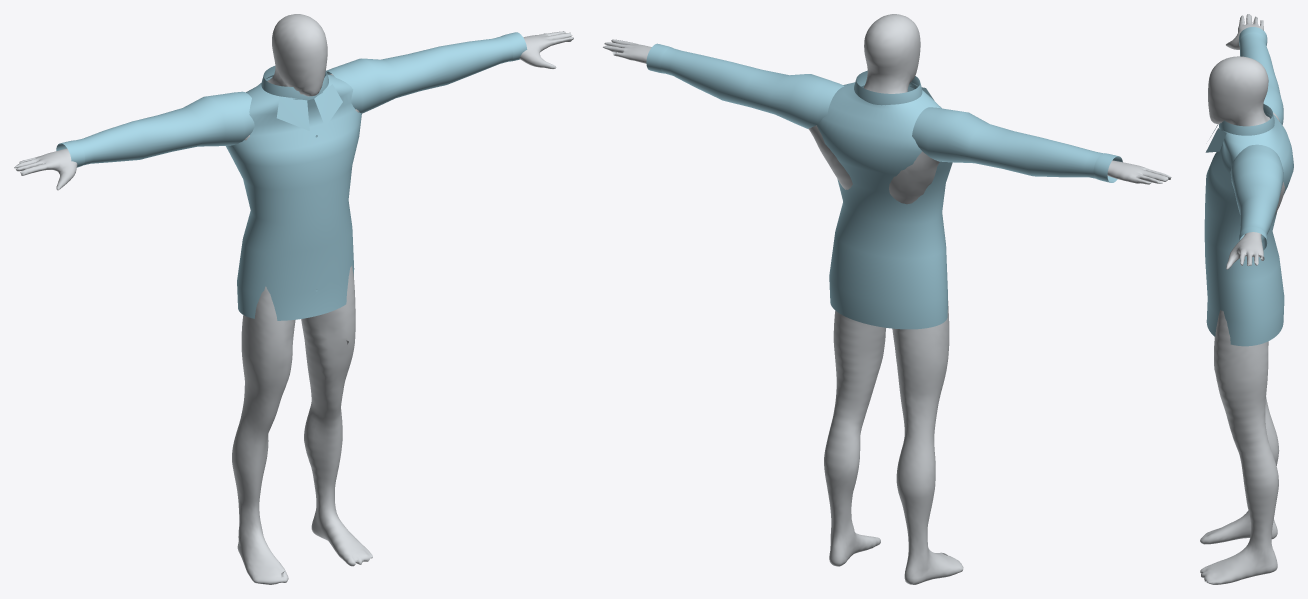
The model's file is garment-on-mannequin-v1.glb.
3 renders of one model, left to right at view 1: azimuth 30°, elevation 25°; view 2: azimuth 150°, elevation 25°; view 3: azimuth 270°, elevation 25°, orthographic. The views are drawn at different scales.
Parts seen in each view (by area): view 1: ATEL-23 Shirt v1, AtelierX_mannequin_180cm; view 2: ATEL-23 Shirt v1, AtelierX_mannequin_180cm; view 3: ATEL-23 Shirt v1, AtelierX_mannequin_180cm.
Part boxes in pixels (x1,y1,x2,y2): ATEL-23 Shirt v1: (56, 32, 527, 320); AtelierX_mannequin_180cm: (14, 14, 573, 584); ATEL-23 Shirt v1: (646, 43, 1122, 329); AtelierX_mannequin_180cm: (603, 14, 1171, 584); ATEL-23 Shirt v1: (1204, 27, 1293, 346); AtelierX_mannequin_180cm: (1200, 14, 1284, 584).
Size of the model in its own units: 1.93 by 1.8 by 0.3059.
